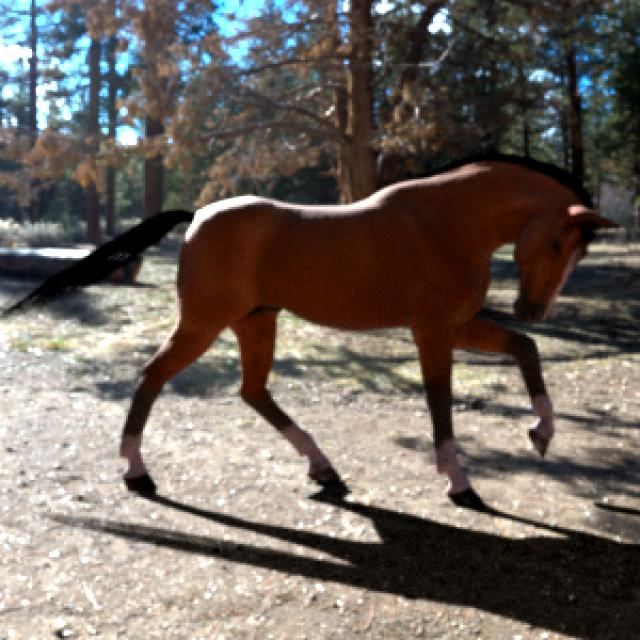horse: (4, 156, 611, 508)
